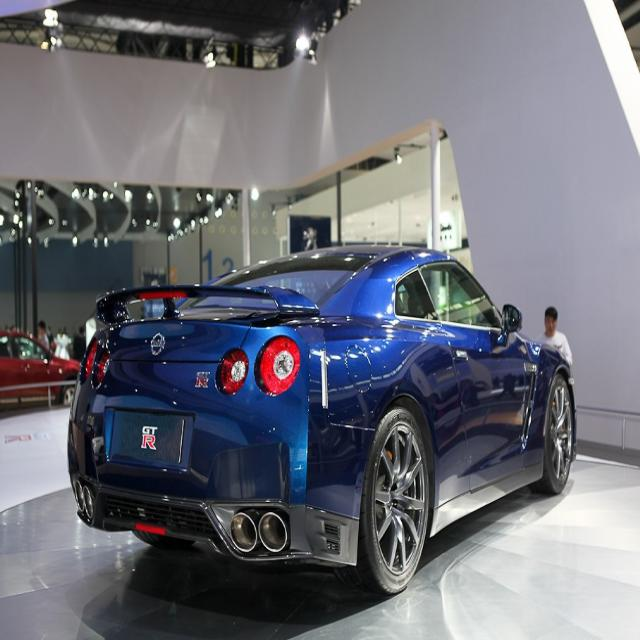back_glass: (192, 248, 378, 315)
back_left_side_light: (80, 332, 110, 390)
back_right_side_light: (214, 332, 302, 398)
front_right_side_door: (419, 253, 540, 495)
front_right_side_mirror: (497, 300, 524, 350)
rear_bumper: (66, 389, 376, 572)
wheel: (350, 406, 431, 595), (528, 372, 575, 496)
